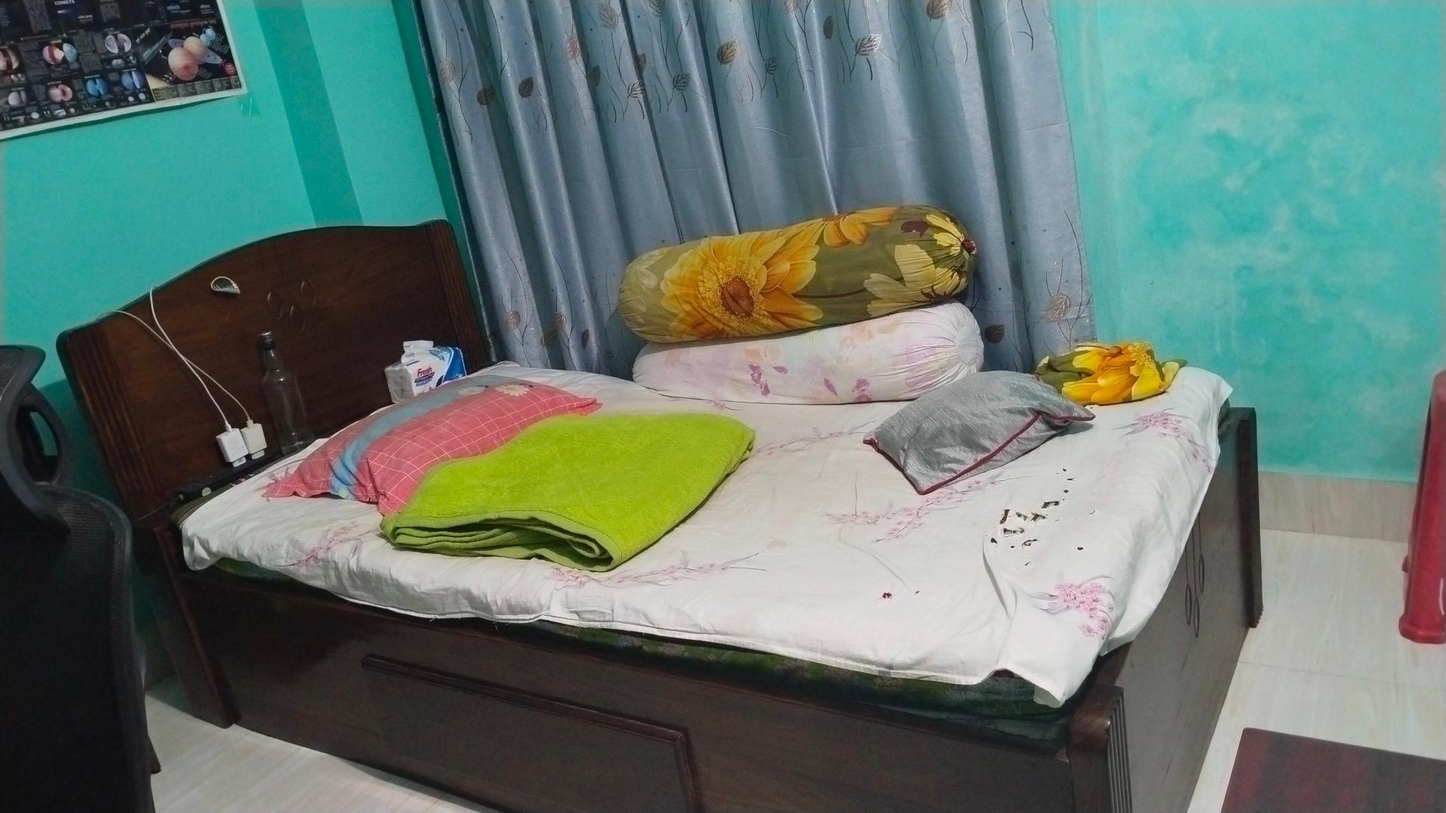Blanket: (414, 390, 756, 569)
Bottle: (245, 321, 325, 446)
Pillow: (274, 344, 583, 534), (595, 204, 985, 322), (632, 280, 1000, 399), (886, 335, 1059, 487)
